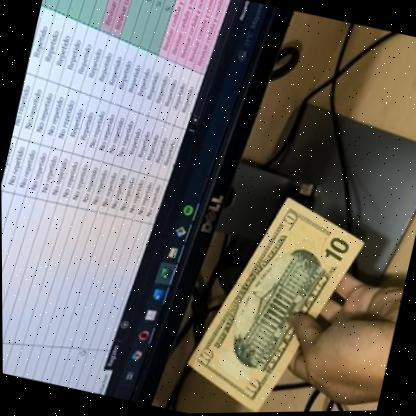ten-back: (174, 180, 372, 414)
